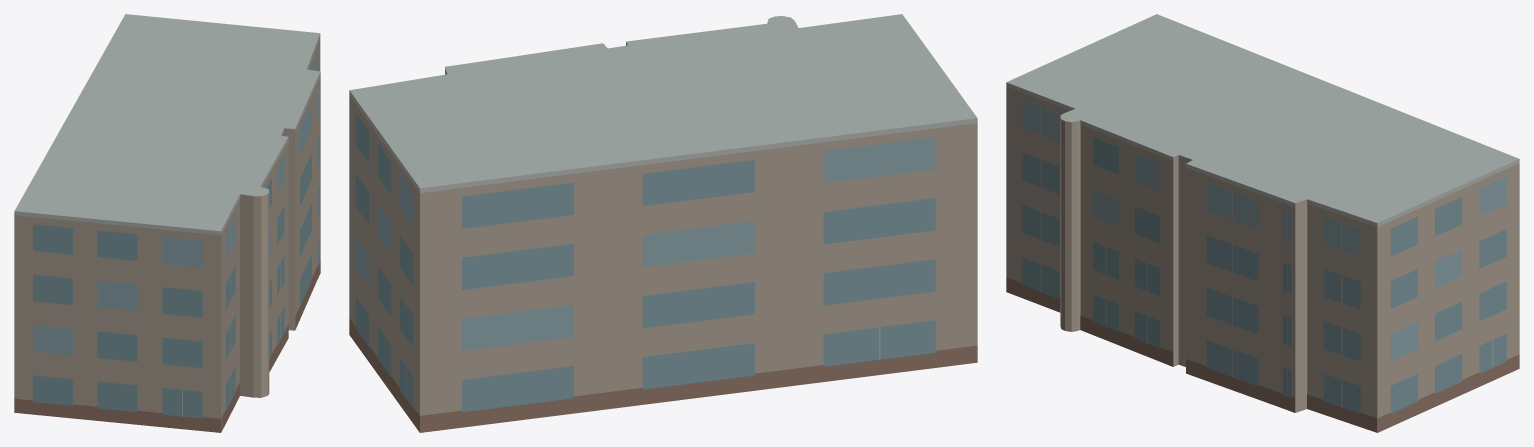
Rendered from survey-upis-32543137.glb.
The picture shows the model from 3 angles, left to right: view 1: azimuth 30°, elevation 25°; view 2: azimuth 150°, elevation 25°; view 3: azimuth 270°, elevation 25°; orthographic projection. The views are drawn at different scales.
Parts seen in each view (by area): view 1: survey-upis-32543137.tmp; view 2: survey-upis-32543137.tmp; view 3: survey-upis-32543137.tmp.
Part boxes in pixels (bbox=[...]): survey-upis-32543137.tmp: bbox=[14, 14, 320, 432]; survey-upis-32543137.tmp: bbox=[349, 14, 977, 432]; survey-upis-32543137.tmp: bbox=[1006, 14, 1519, 432].
Size of the model in its own units: 26.09 by 12.2 by 27.06.
